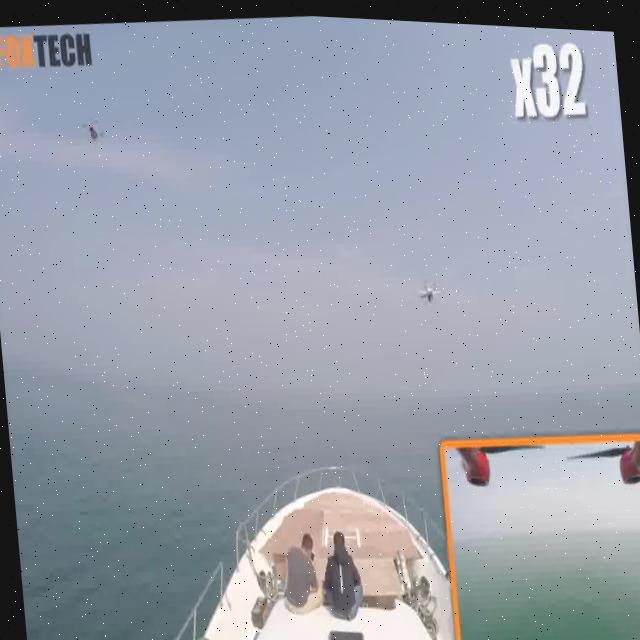drone: (412, 265, 444, 305), (76, 111, 105, 149)
